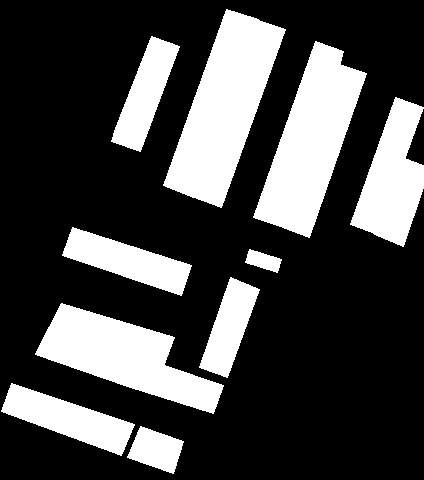parkingspot: (163, 9, 258, 197), (191, 19, 285, 207), (253, 41, 343, 227), (35, 326, 223, 413), (282, 64, 366, 237), (350, 97, 423, 234), (1, 383, 134, 455), (62, 227, 191, 295), (48, 303, 174, 366), (111, 36, 179, 151), (199, 277, 259, 377), (374, 158, 424, 246), (127, 426, 183, 473), (245, 249, 281, 272)
